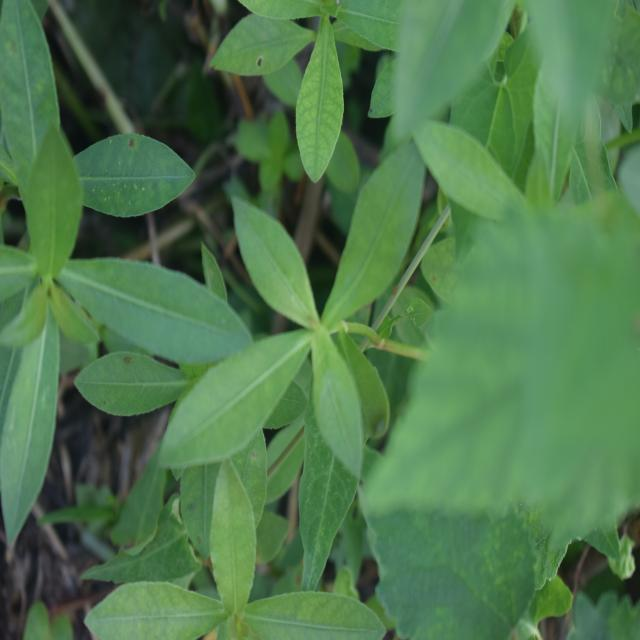Alligatorweed: (154, 148, 414, 521), (0, 103, 193, 524)
